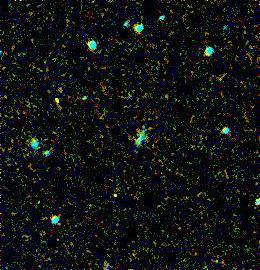star: (100, 179, 130, 209)
